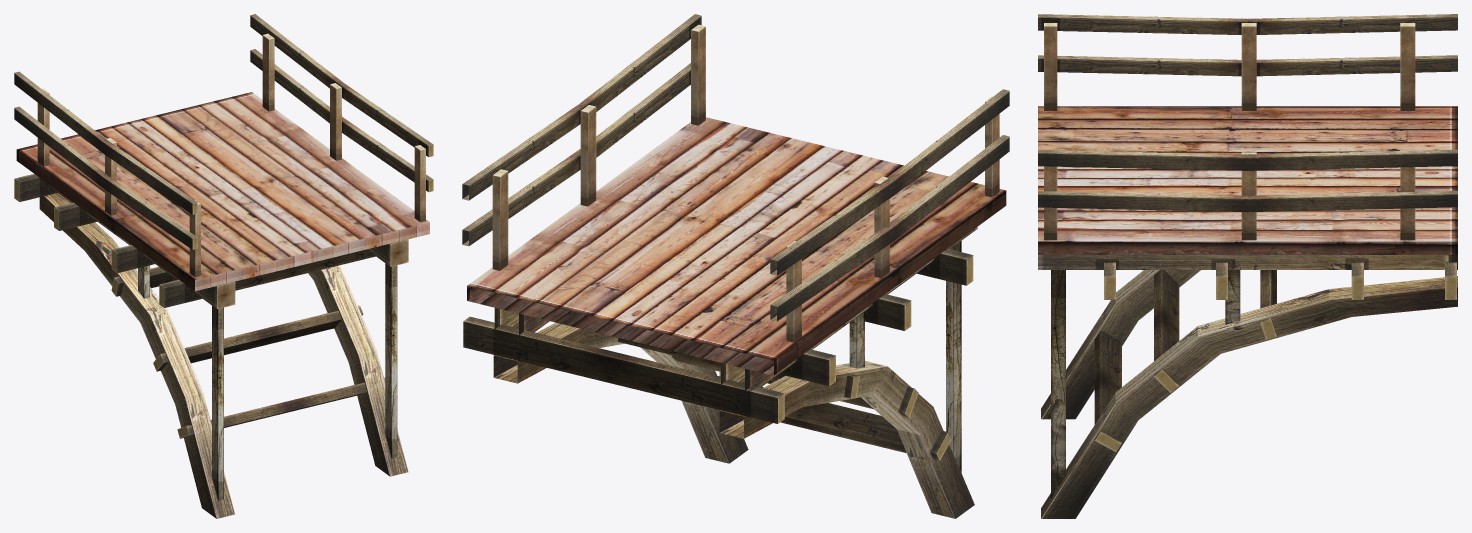
The model's file is wooden_bridge_end_02.fbx.
3 renders of one model, left to right at view 1: azimuth 30°, elevation 25°; view 2: azimuth 150°, elevation 25°; view 3: azimuth 270°, elevation 25°, orthographic. The views are drawn at different scales.
Visible parts, largest first — view 1: wooden_bridge_end_02; view 2: wooden_bridge_end_02; view 3: wooden_bridge_end_02.
Boxes of the visible parts, bbox=[...] form: wooden_bridge_end_02: bbox=[14, 14, 433, 518]; wooden_bridge_end_02: bbox=[462, 14, 1009, 518]; wooden_bridge_end_02: bbox=[1038, 14, 1457, 518].
Size of the model in its own units: 2.51 by 3.21 by 3.21.
